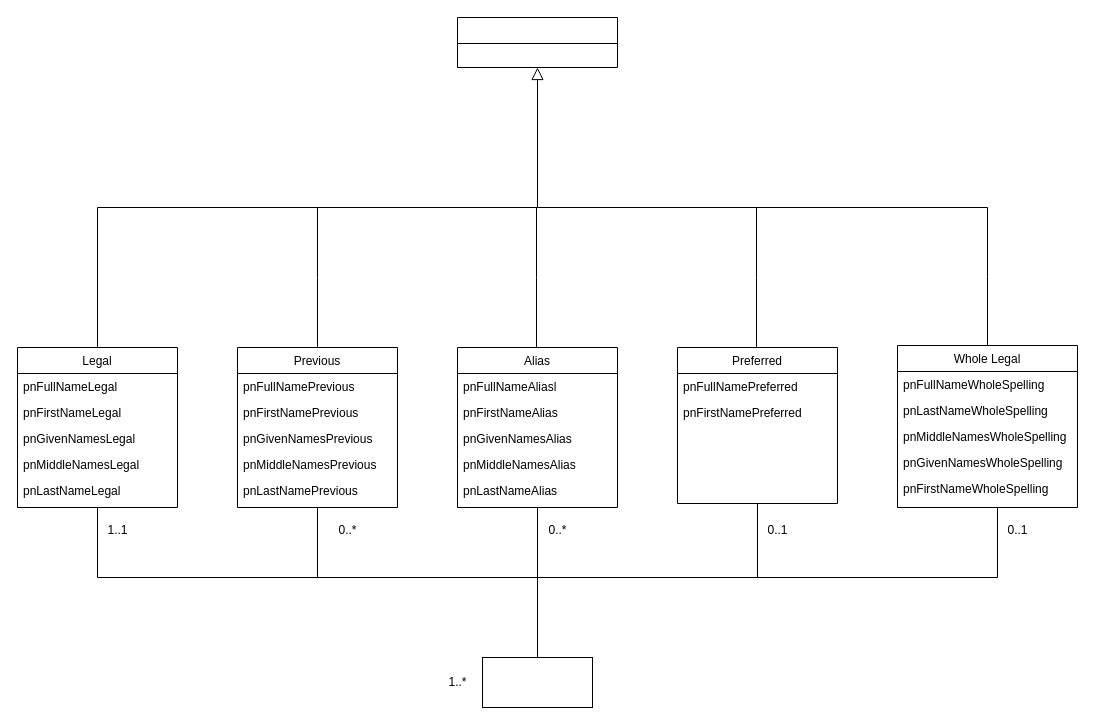
The diagram is 1095 pixels wide and 725 high, and some of its shapes have lost their labels. Each missing label, with the centre of its shape:
"Person" belongs at point (537, 682).
"Person Name" belongs at point (537, 42).
